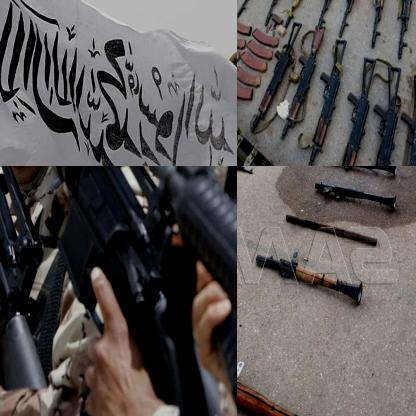rifle: (0, 166, 156, 337), (72, 166, 236, 308), (237, 343, 333, 415), (252, 248, 364, 309), (249, 23, 302, 134), (306, 39, 347, 165), (280, 27, 326, 138), (335, 57, 377, 165), (368, 63, 402, 165), (310, 177, 398, 215), (322, 166, 397, 185), (392, 0, 414, 61), (401, 73, 415, 165), (336, 0, 369, 39), (283, 0, 323, 31), (368, 0, 393, 48), (262, 0, 302, 27), (315, 0, 348, 29), (237, 0, 284, 20)
